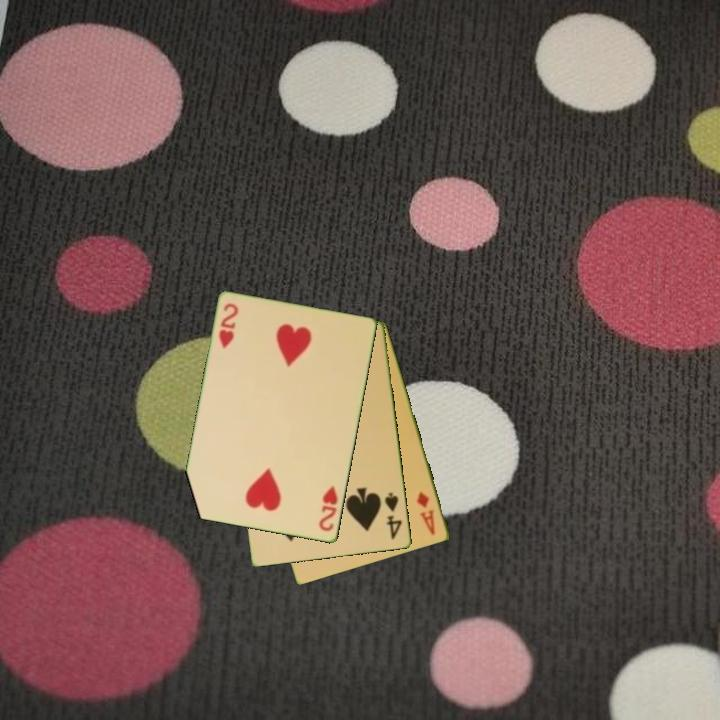2h: (215, 300, 242, 351), (316, 483, 341, 534)
4s: (382, 489, 405, 543)
Ad: (414, 488, 438, 538)
